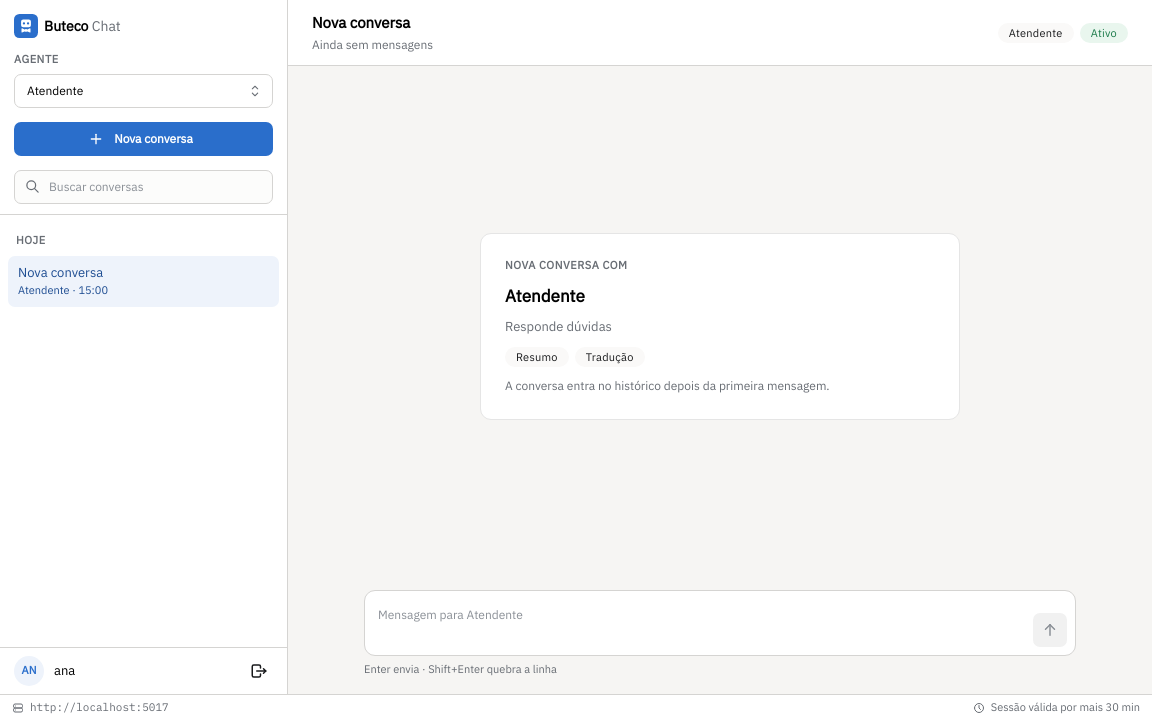
Test case: persistência › armazenamento que lança: o app funciona com as conversas em memória
Expected: the text "NOVA CONVERSA COM" is shown, [505,258,628,272]
In the text box labelled "Mensagem": (699,623) [373,599,1025,647], type "oi"
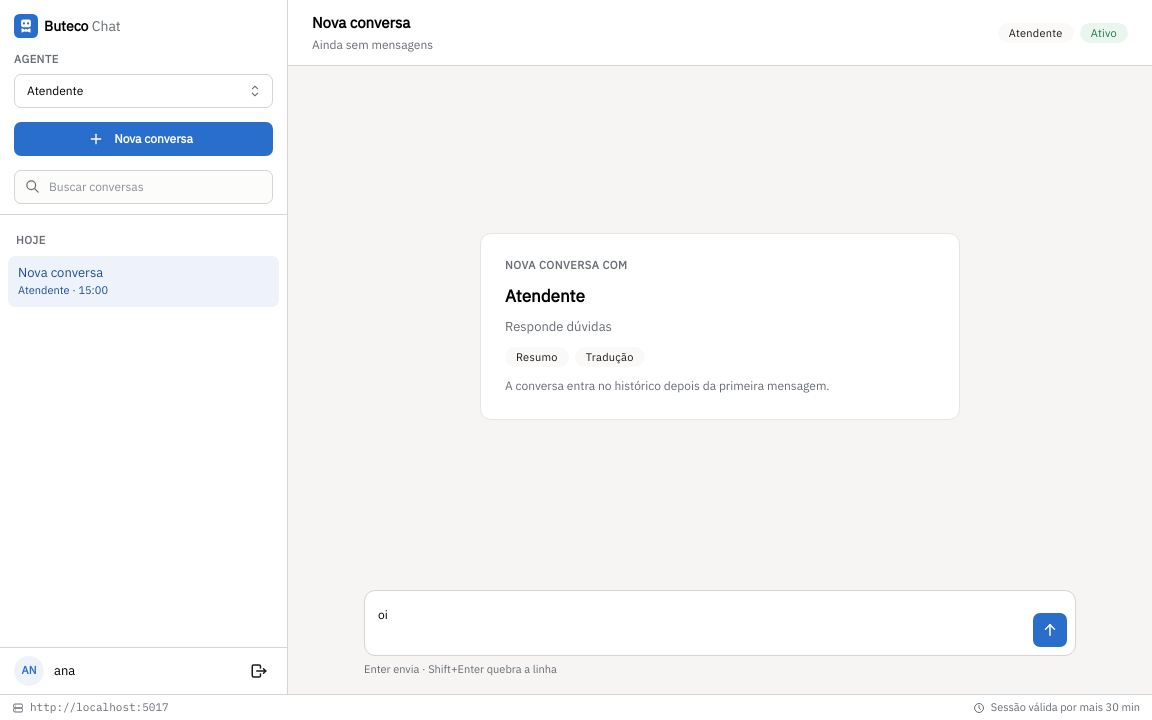
Press Enter in the text box named "Mensagem", box [373,599,1025,647]
Wait 1000 ms
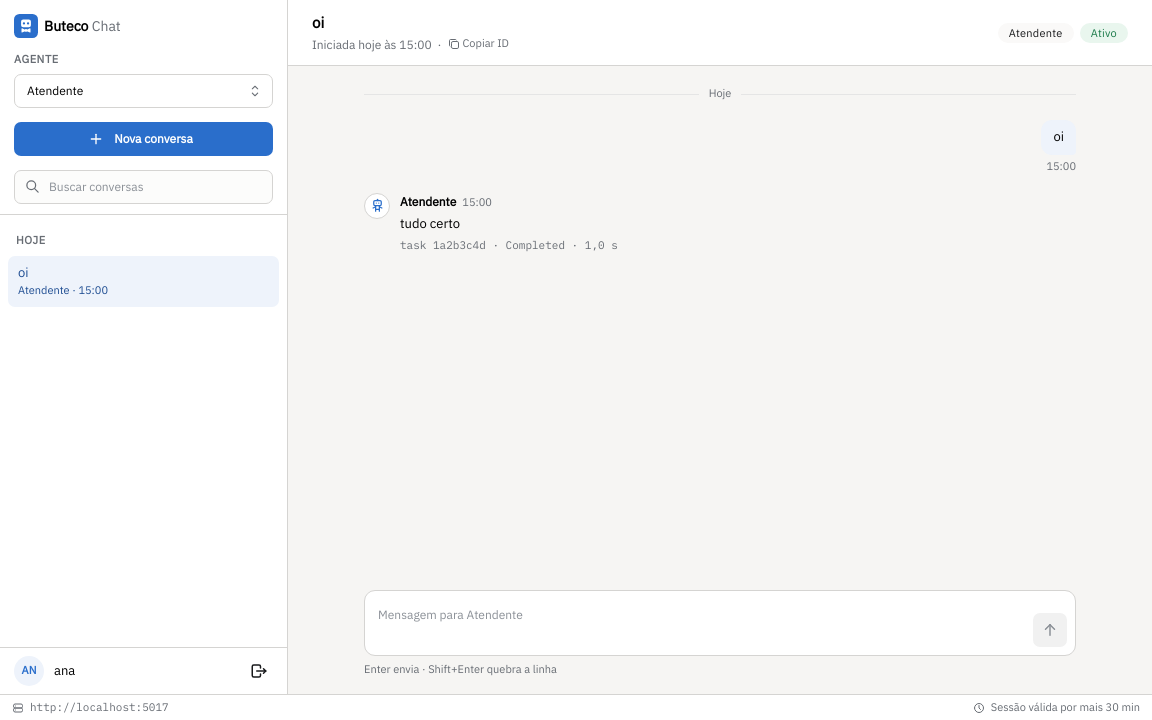
Expected: the text "tudo certo" is shown, [400,215,460,232]
